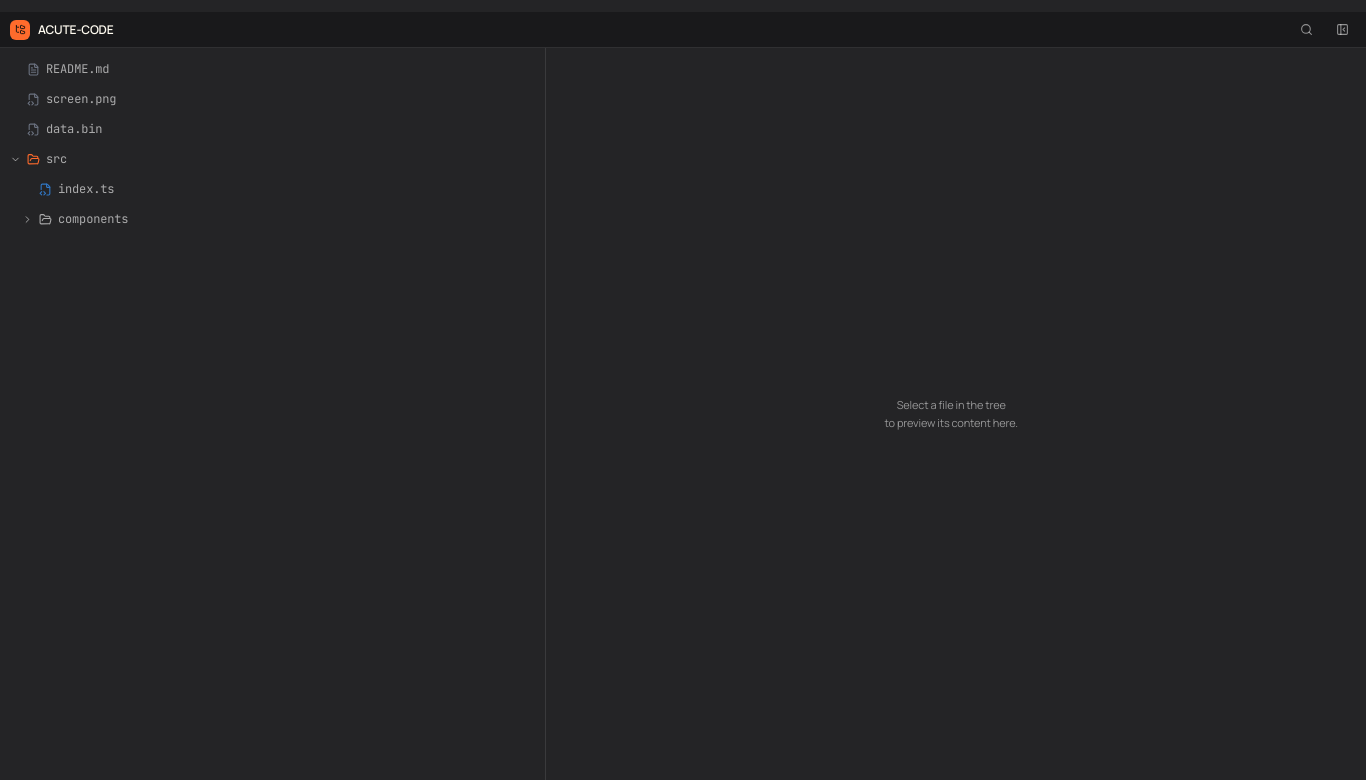
Test: FilesExplorerPanel (ROUND-48 R48-c) › click file → GET /file content renders: markdown for .md, line-numbered code for .ts
Check: the text "Select a file in the tree" is shown, box [897,397,1006,412]
# Markdown file: the shared FileViewerPanel renderer output.
Click the button "README.md" at (78, 69), box [4,54,531,84]
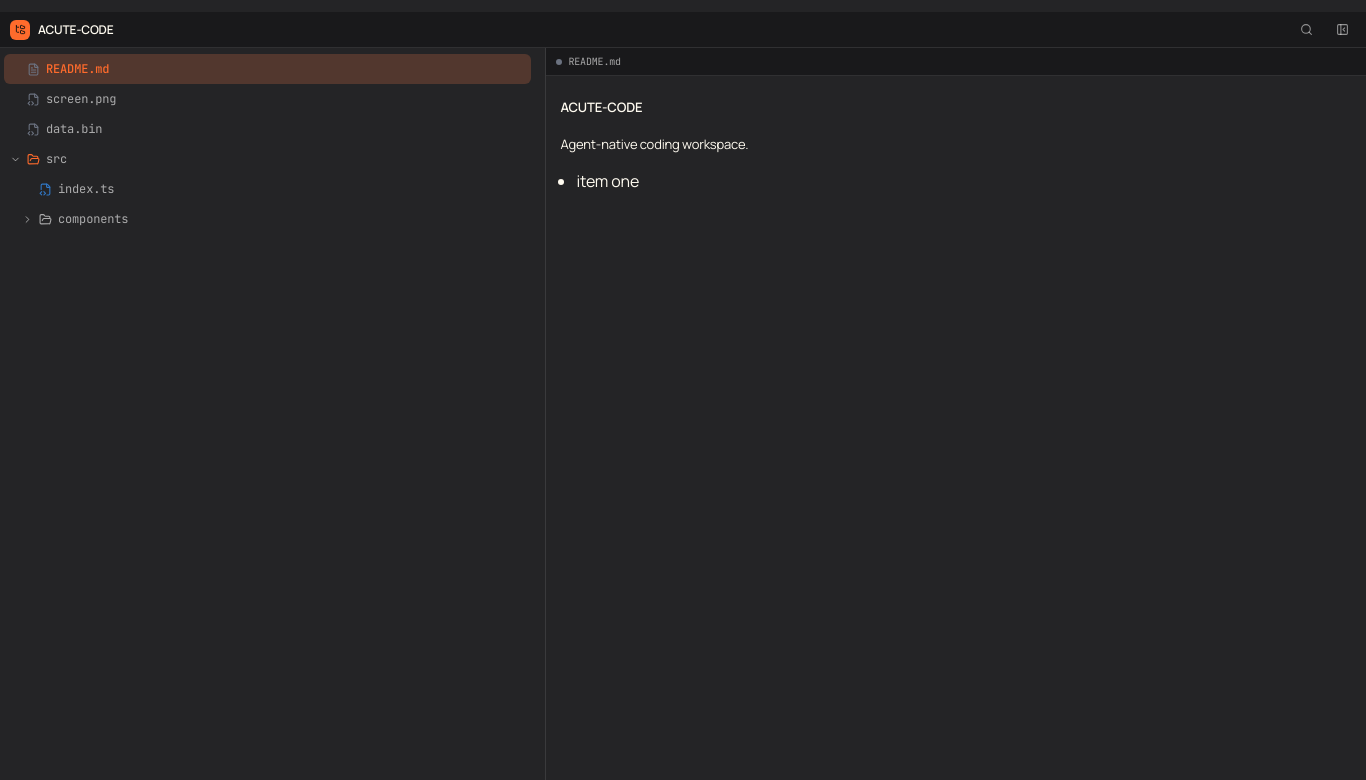
Check: the text "README.md" is shown 2 times, box [46,60,109,78]; [568,54,621,69]
Check: the text "Agent-native coding workspace." is shown, box [560,134,748,152]
